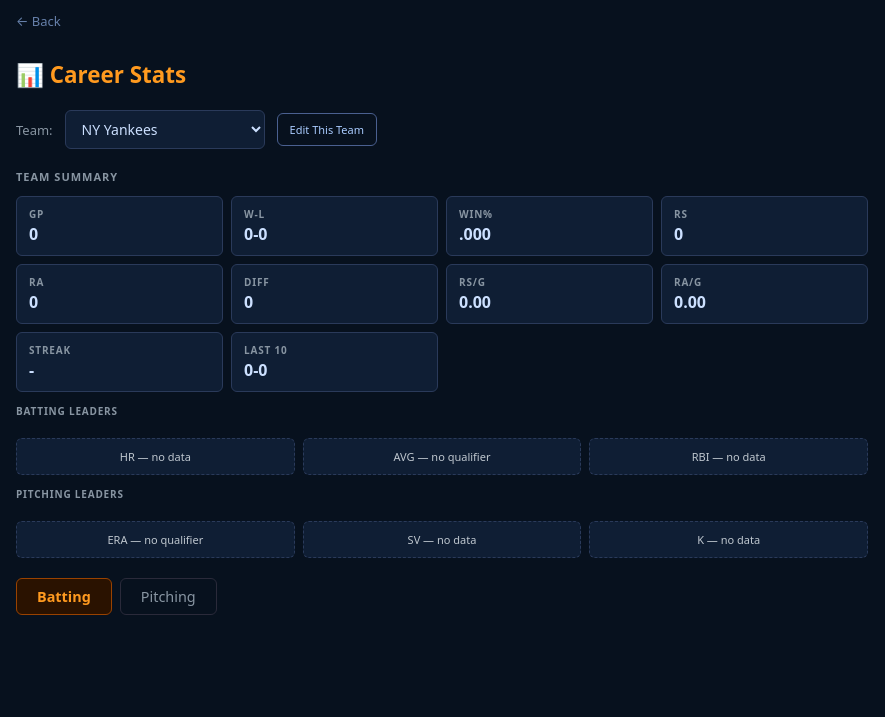
CareerStatsPage › switches to pitching tab and renders pitching rows
Step 1. Click the button with test id "career-stats-pitching-tab" → (168,596), box [120,578,217,615]
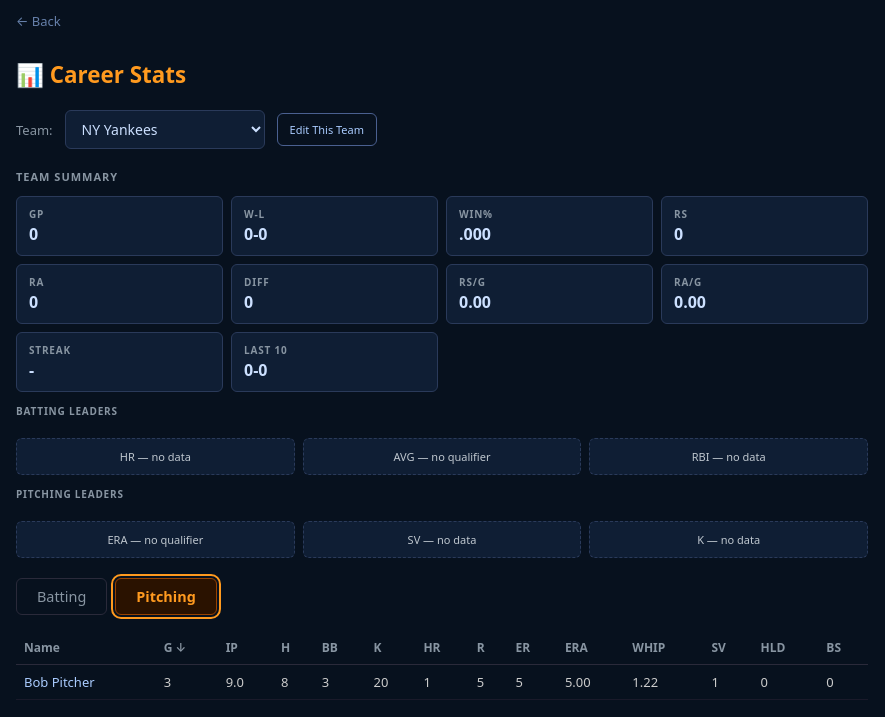
Result: the button "Bob Pitcher" is shown at [24,673,95,691]
Result: the text "9.0" is shown at [218,664,273,700]
